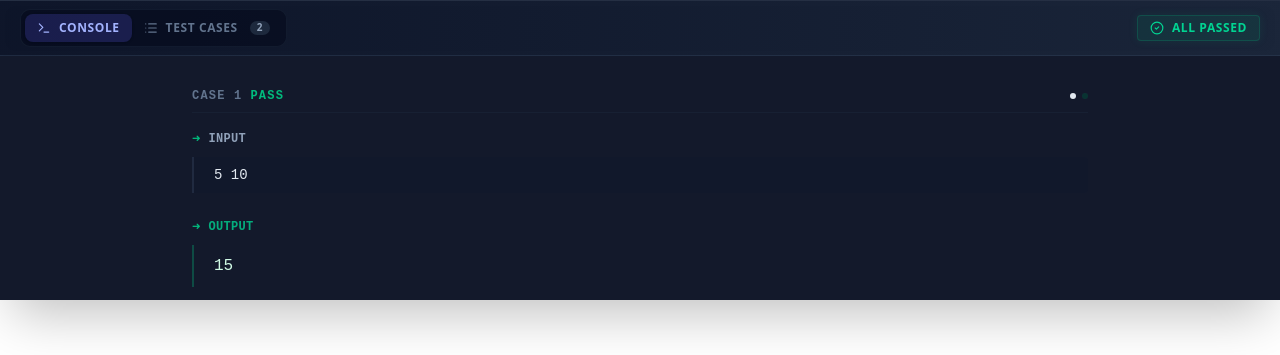
ConsolePanel › with test results › should switch to Test Cases tab when clicked
Click the button "Test Cases 2".
click(207, 28)  # box top-left (132, 14), bottom-right (282, 42)
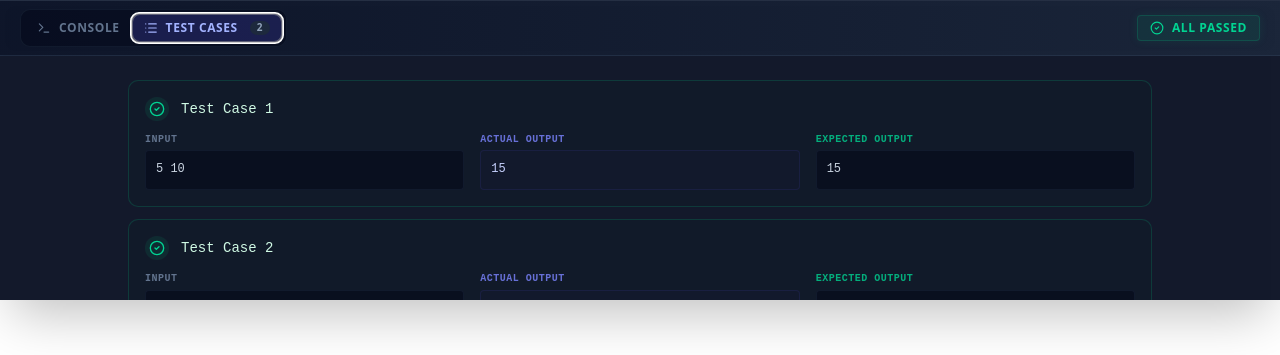
Check: the text "Test Case 1" is shown, box top-left (181, 99), bottom-right (273, 119)
Check: the text "Test Case 2" is shown, box top-left (181, 238), bottom-right (273, 258)
